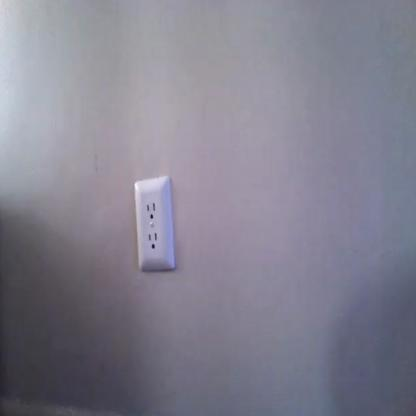OUTLET: (134, 174, 176, 273)
